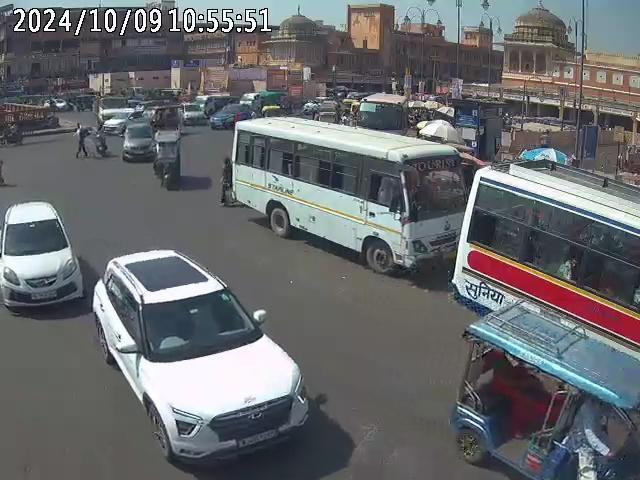auto: (449, 299, 639, 480), (151, 129, 186, 189)
bus: (232, 116, 469, 272), (453, 158, 639, 336)
car: (91, 247, 311, 467), (0, 200, 84, 314), (121, 108, 157, 162), (208, 104, 252, 129)
license_plate: (236, 428, 281, 448), (29, 290, 58, 302)
motorbike-rider: (0, 122, 24, 147)
person: (72, 122, 90, 159), (557, 250, 577, 283), (221, 155, 233, 205)
scooty-rider: (88, 122, 112, 157)
